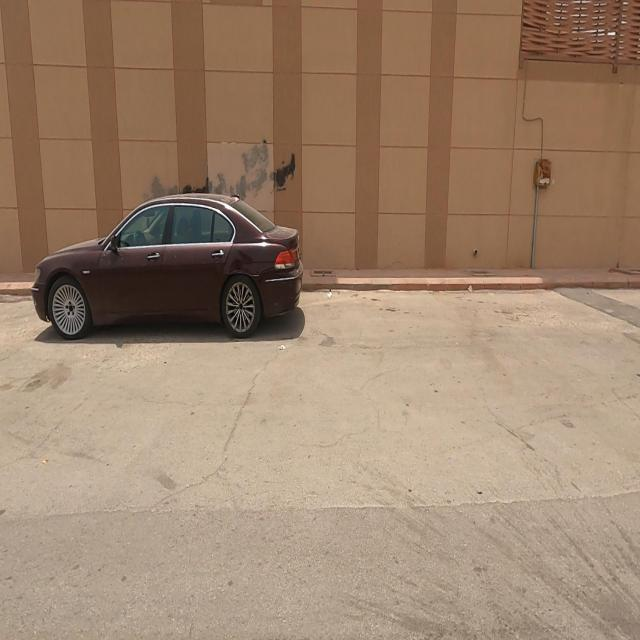Graffiti: (145, 141, 296, 204)
